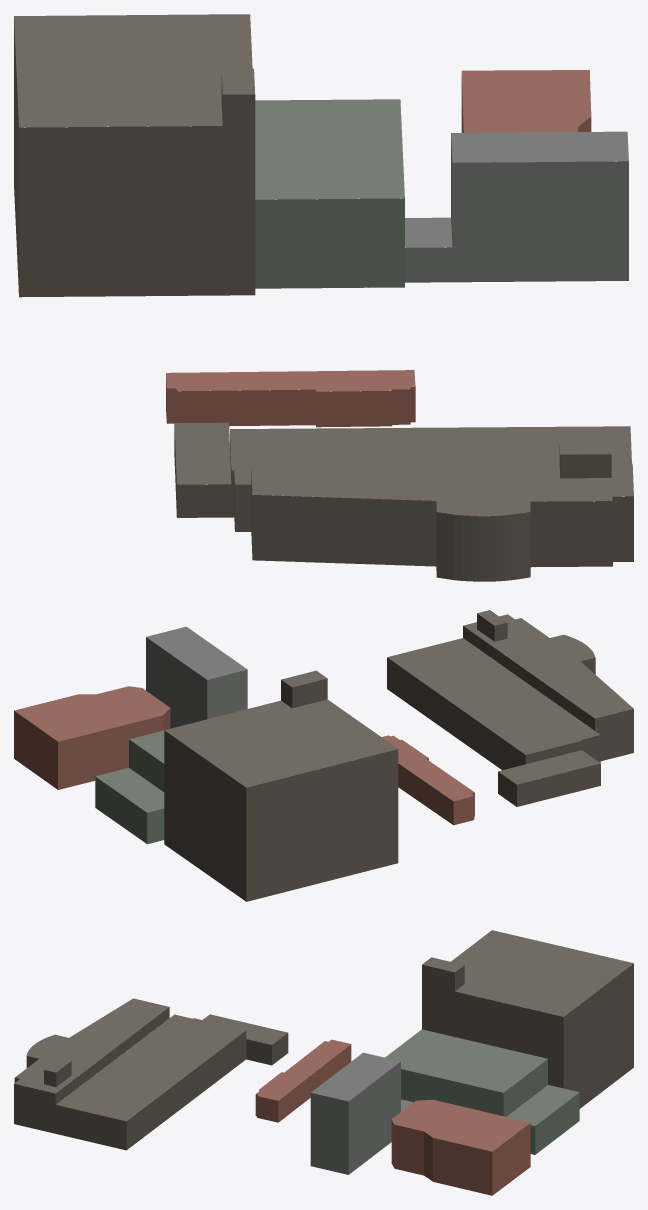
File: tile--2_-14.glb
The picture shows the model from 3 angles, top to bottom: view 1: azimuth 30°, elevation 25°; view 2: azimuth 150°, elevation 25°; view 3: azimuth 270°, elevation 25°; orthographic projection. The views are drawn at different scales.
Parts seen in each view (by area): view 1: wall, roof; view 2: wall, roof; view 3: wall, roof.
Part boxes in pixels (box(x1,y1,x2,y2)): wall: box(14, 20, 633, 581); roof: box(14, 14, 633, 516); wall: box(14, 613, 633, 901); roof: box(14, 610, 633, 812); wall: box(14, 963, 633, 1195); roof: box(14, 930, 633, 1151).
Size of the model in its own units: 75.97 by 26.69 by 103.
